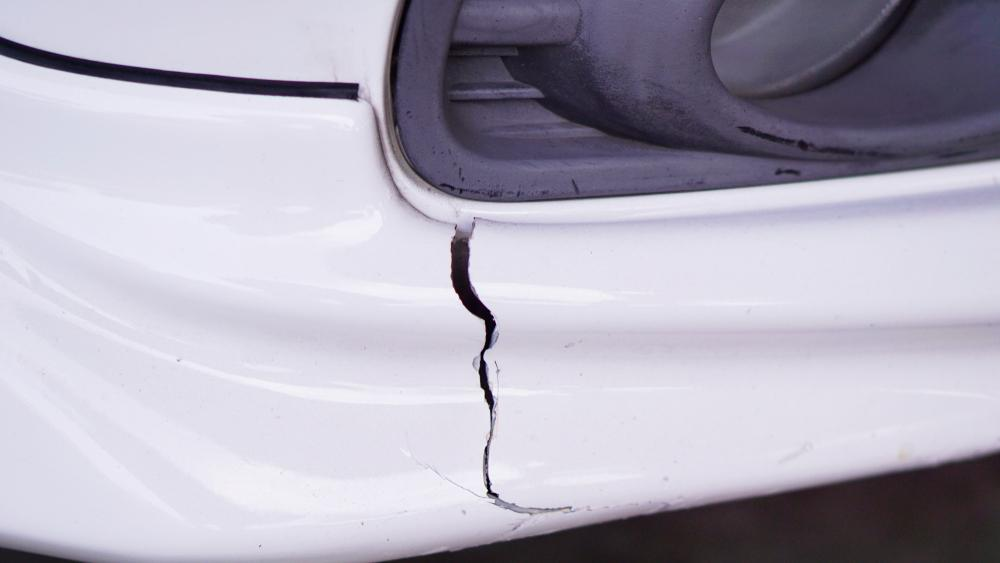crack: (449, 217, 572, 517)
